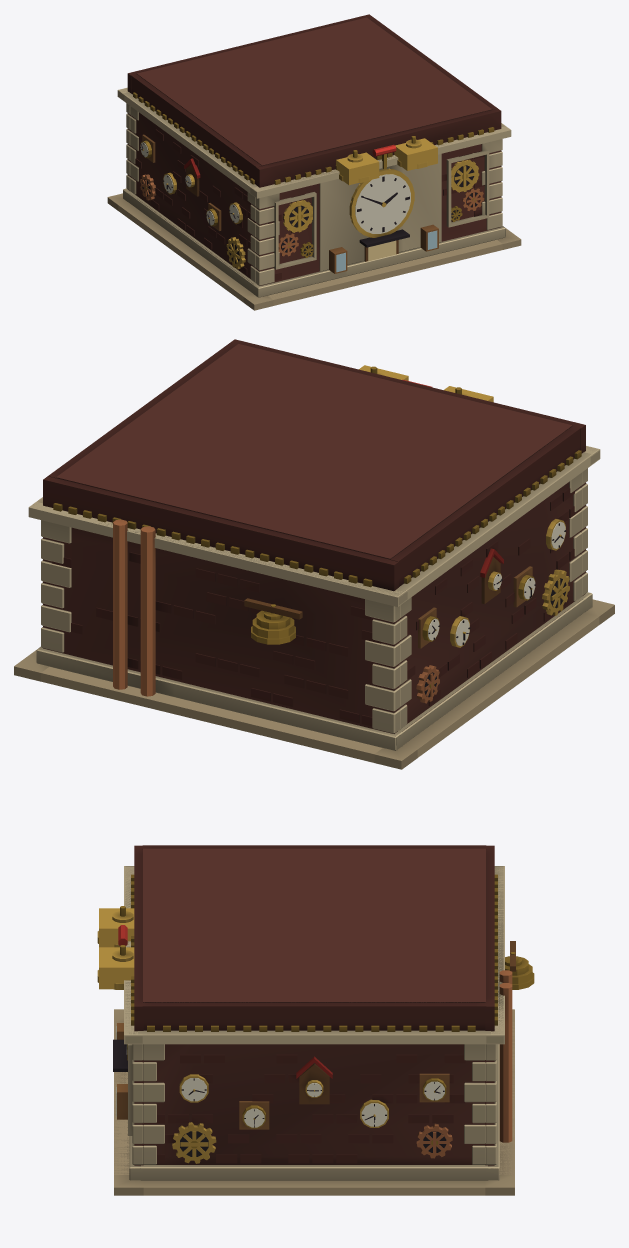
Rendered from AngryAlarmClockFloor.fbx.
The picture shows the model from 3 angles, top to bottom: view 1: azimuth 30°, elevation 25°; view 2: azimuth 150°, elevation 25°; view 3: azimuth 270°, elevation 25°; orthographic projection. The views are drawn at different scales.
Visible parts, largest first — view 1: AL_S_All, AL_F_Rings, AL_F_Smooth, AL_F_Glass, AL_F_Quiet, AL_F_Props; view 2: AL_F_Rings, AL_S_All, AL_F_Smooth, AL_F_Quiet, AL_F_Props, AL_F_Glass; view 3: AL_S_All, AL_F_Rings, AL_F_Smooth, AL_F_Quiet, AL_F_Props, AL_F_Glass.
Part boxes in pixels (x1,y1,x2,y2): AL_S_All: [109, 17, 520, 310]; AL_F_Rings: [121, 14, 505, 297]; AL_F_Smooth: [107, 90, 521, 310]; AL_F_Glass: [140, 142, 437, 272]; AL_F_Quiet: [108, 193, 520, 304]; AL_F_Props: [140, 140, 438, 273]; AL_F_Rings: [31, 339, 598, 750]; AL_S_All: [14, 344, 614, 769]; AL_F_Smooth: [14, 366, 614, 769]; AL_F_Quiet: [15, 599, 614, 760]; AL_F_Props: [251, 387, 569, 703]; AL_F_Glass: [428, 521, 565, 645]; AL_S_All: [99, 848, 514, 1195]; AL_F_Rings: [125, 845, 512, 1180]; AL_F_Smooth: [112, 866, 521, 1195]; AL_F_Quiet: [114, 1009, 514, 1187]; AL_F_Props: [97, 931, 534, 1163]; AL_F_Glass: [116, 1026, 444, 1127].
Bounding box in the file's own units: 60 × 20 × 60.
